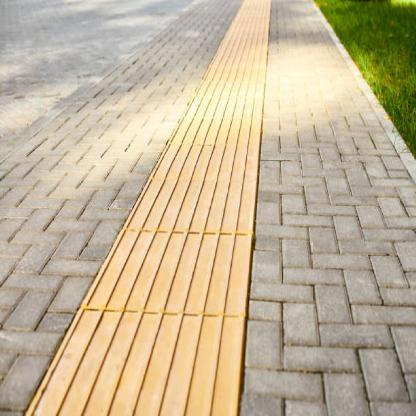podotacti: (25, 0, 271, 416)
